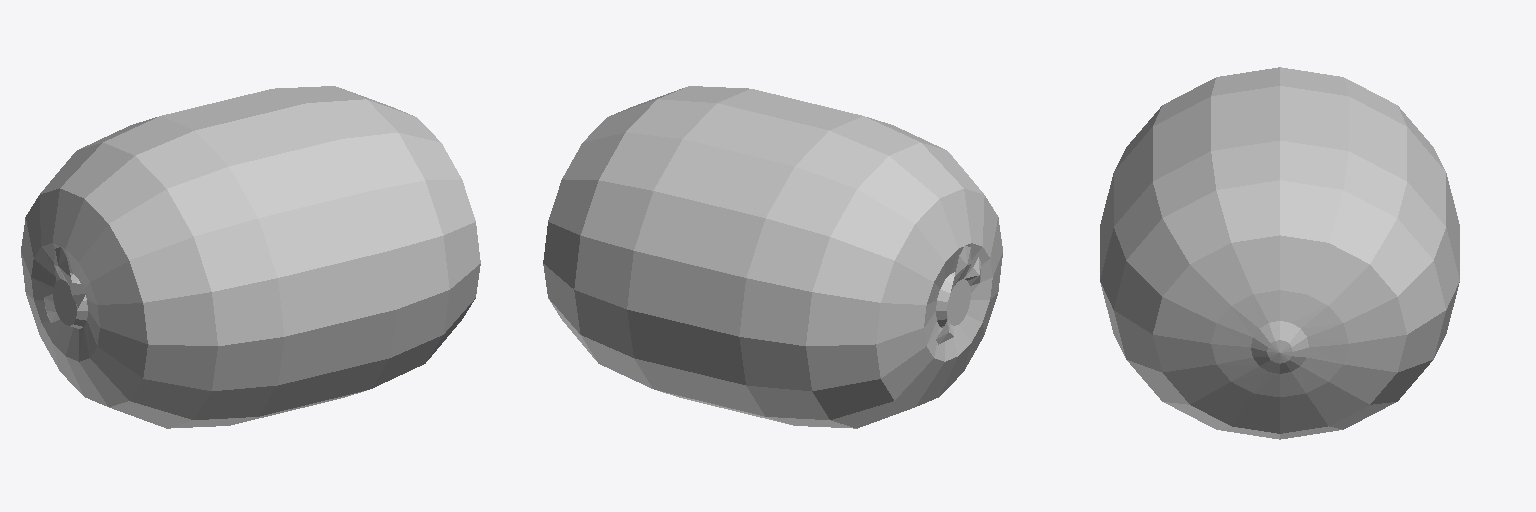
The model's file is kiwi.obj.
3 views of the same model, side by side, from view 1: azimuth 30°, elevation 25°; view 2: azimuth 150°, elevation 25°; view 3: azimuth 270°, elevation 25° (orthographic).
Parts seen in each view (by area): view 1: Kiwi; view 2: Kiwi; view 3: Kiwi.
Boxes of the visible parts, x1,y1,x2,y2 form: Kiwi: [21, 86, 480, 428]; Kiwi: [543, 86, 1002, 428]; Kiwi: [1100, 67, 1459, 439].
Size of the model in its own units: 0.557 by 0.3764 by 0.4375.